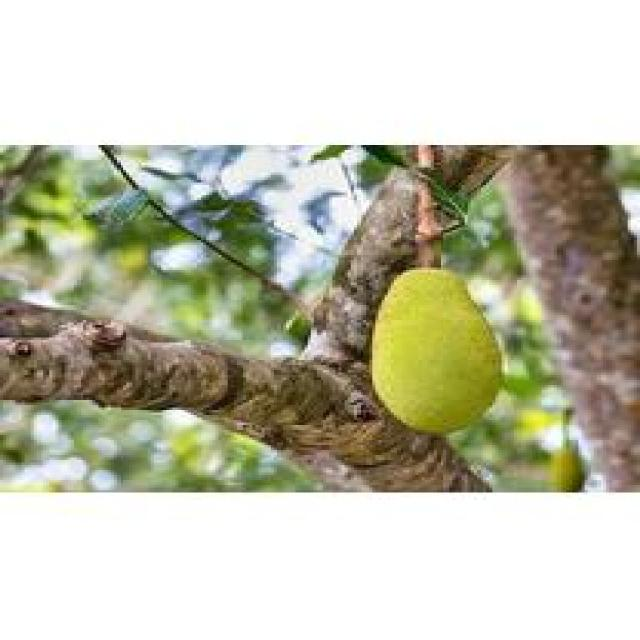Fruit: (351, 253, 526, 445)
